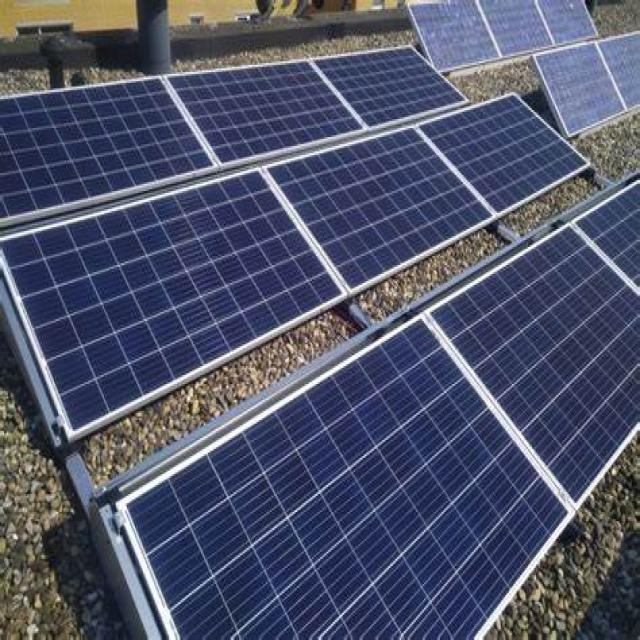Surface Contaminant: (408, 0, 595, 67), (533, 33, 639, 131)
